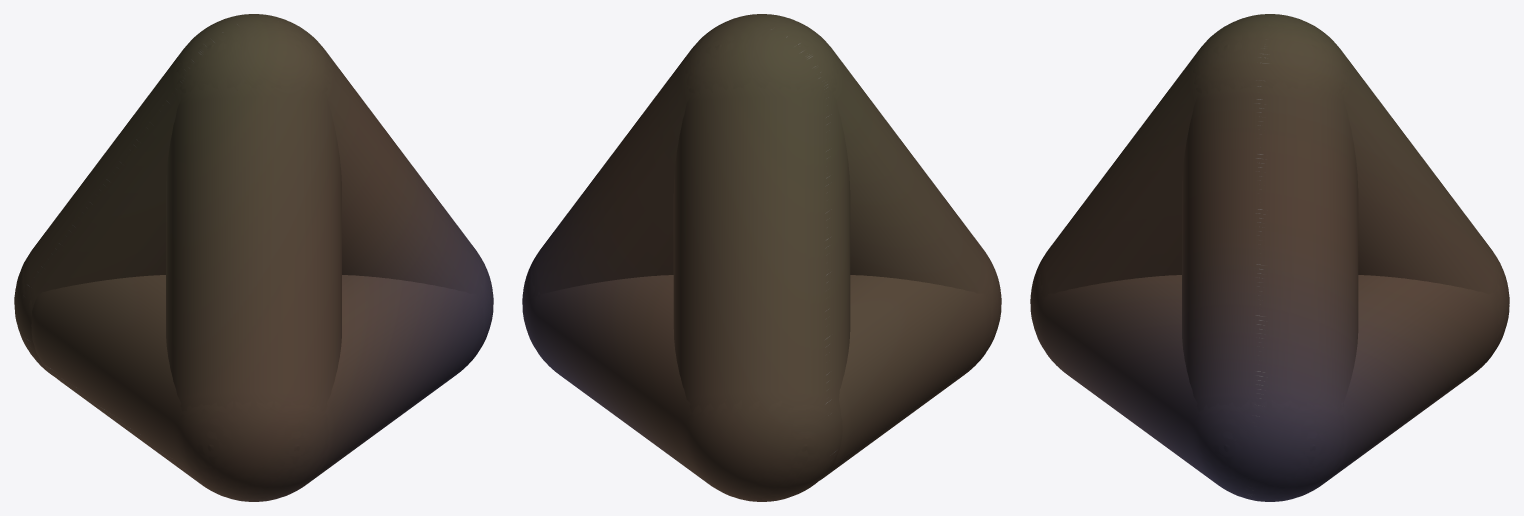
Rendered from 09_pillowtri_inactive.glb.
3 renders of one model, left to right at view 1: azimuth 30°, elevation 25°; view 2: azimuth 150°, elevation 25°; view 3: azimuth 270°, elevation 25°, orthographic.
Parts seen in each view (by area): view 1: faded; view 2: faded; view 3: faded.
Part boxes in pixels (box(x1,y1,x2,y2)): faded: box(14, 14, 493, 501); faded: box(522, 14, 1001, 501); faded: box(1030, 14, 1509, 501).
Bounding box in the file's own units: 0.1149 × 0.1149 × 0.1255.
1 material, 1 textured.
